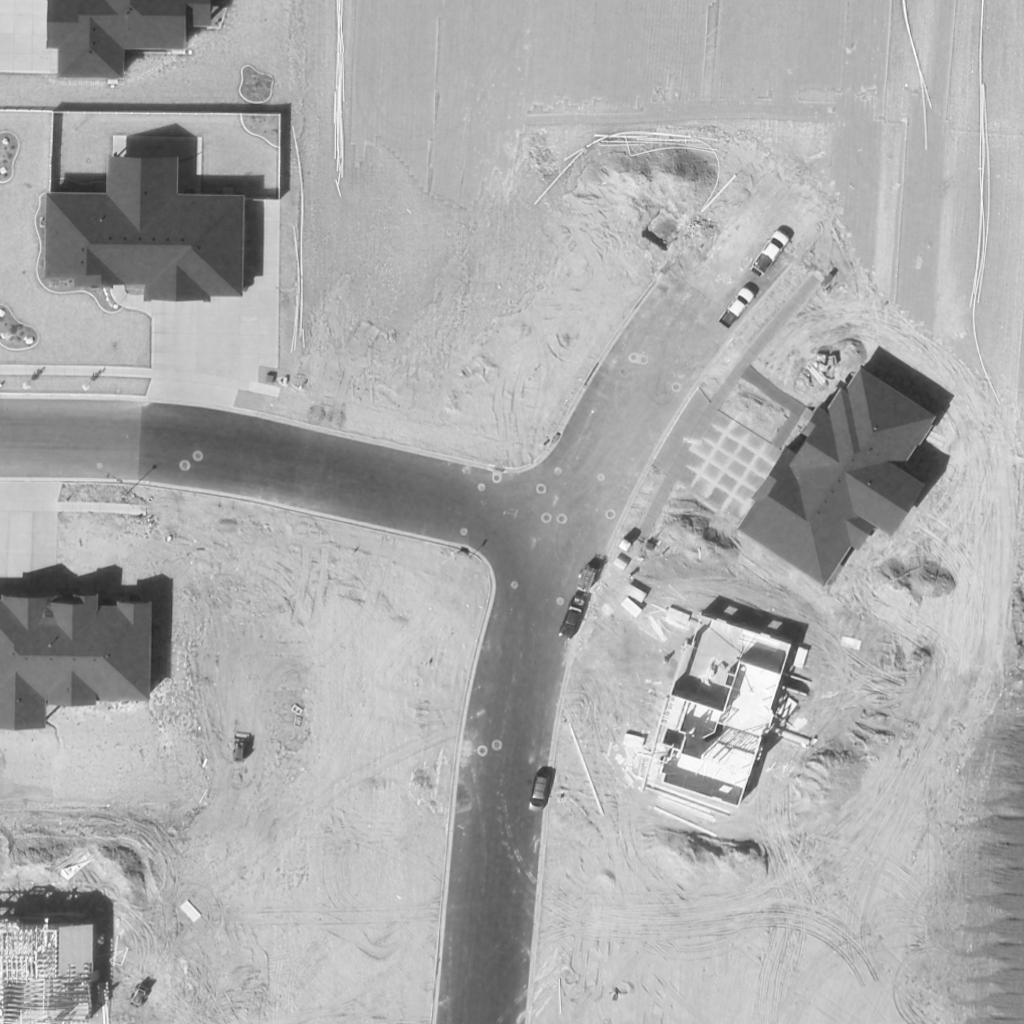vehicle: (714, 285, 758, 331), (749, 229, 789, 279), (559, 594, 589, 642), (529, 773, 551, 813)
